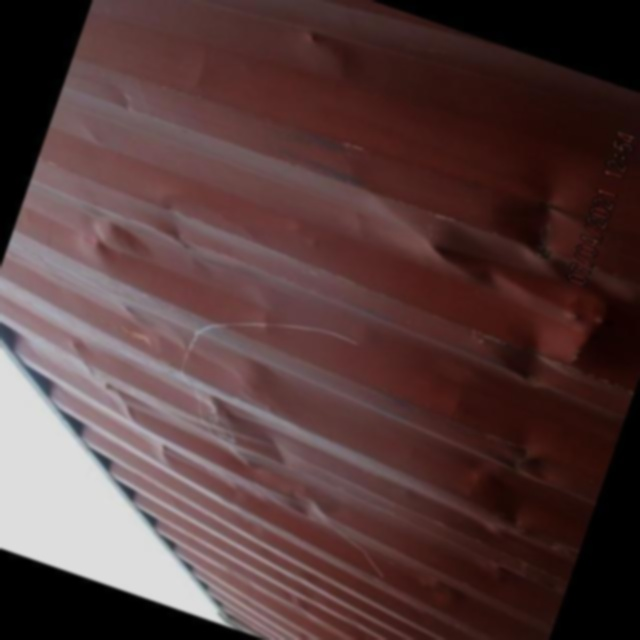Dent: (352, 150, 640, 417)
